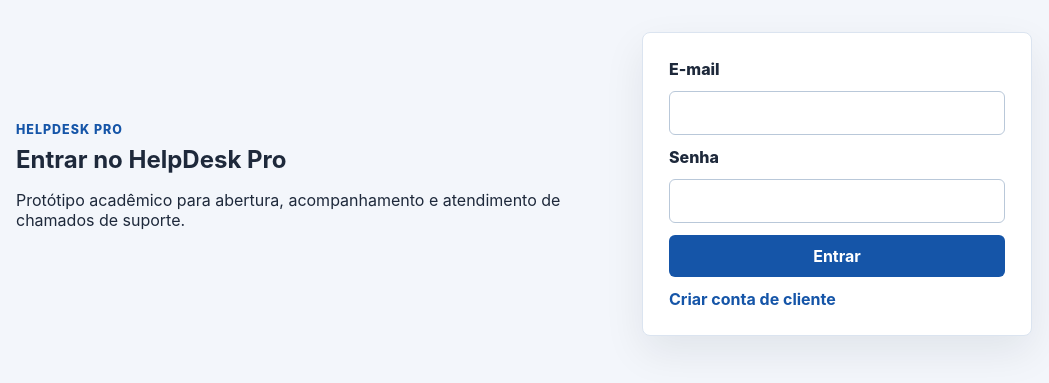
Test case: HelpDesk Pro - Casos de Teste › CT006 - Login com senha incorreta
Type "cliente@teste.com" into the field with id "email" at point(837, 113), box [669,91,1005,135]
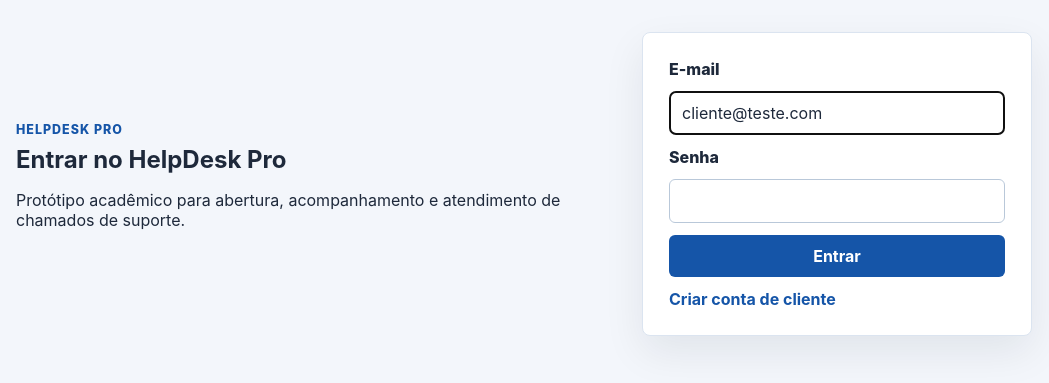
Type "654321" into the password field labelled "Senha" at point(837, 201), box [669,179,1005,223]
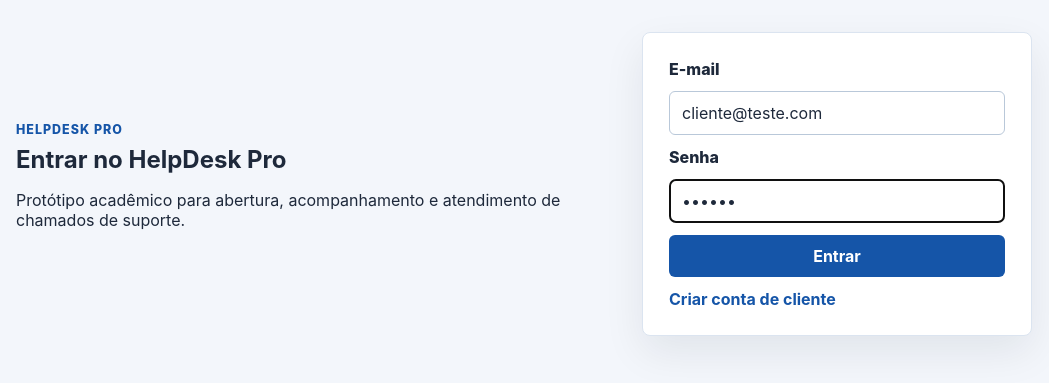
Click the button "Entrar" at point(837, 256), box [669,235,1005,277]
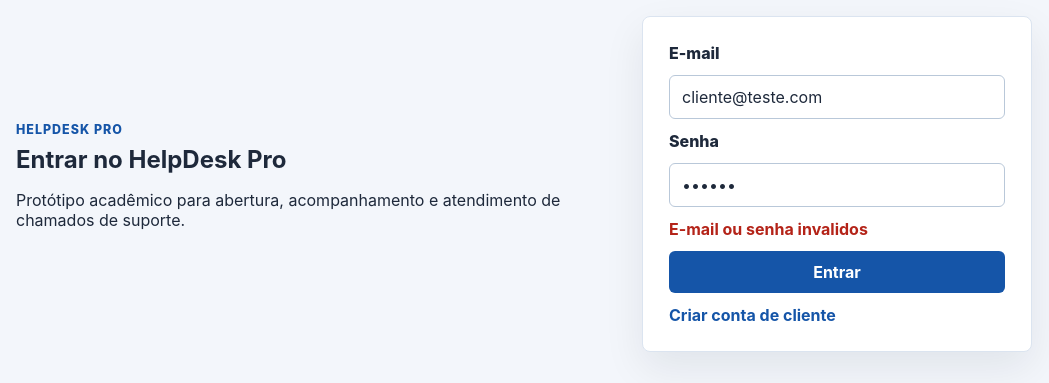
Check: the text "E-mail ou senha invalidos" is shown, box [669,219,868,239]
